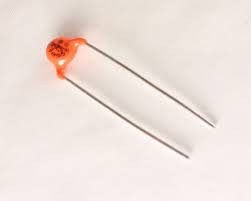ceramic capacitor: (26, 12, 114, 106)
